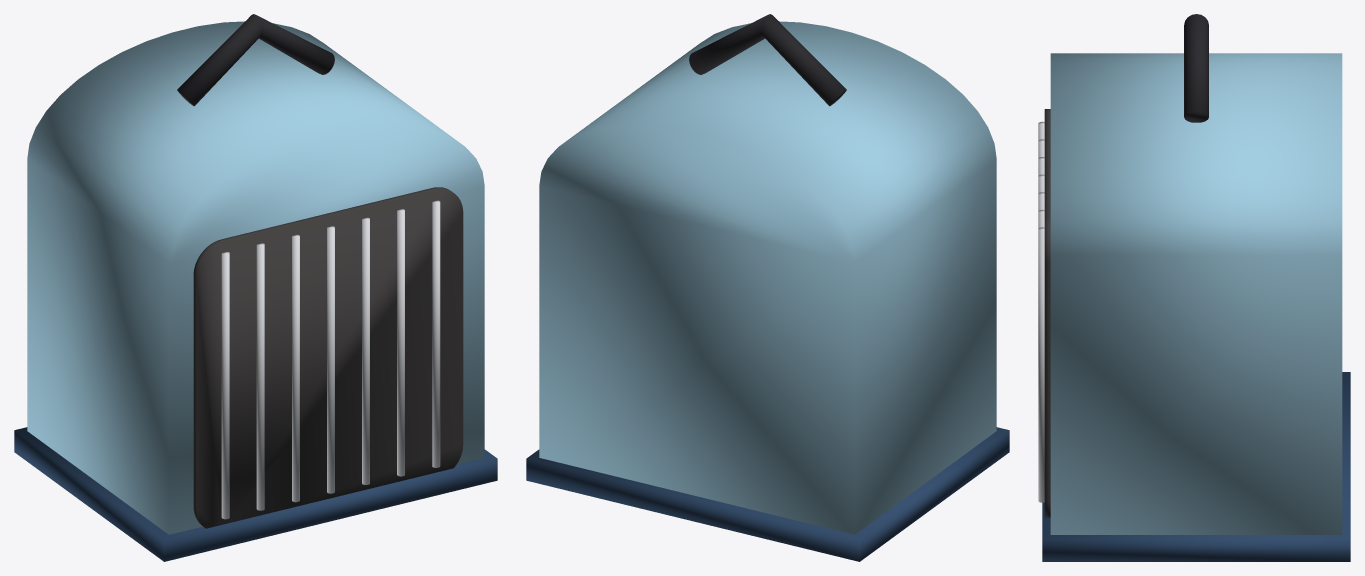
The model's file is pet-carrier.glb.
3 views of the same model, side by side, from view 1: azimuth 30°, elevation 25°; view 2: azimuth 150°, elevation 25°; view 3: azimuth 270°, elevation 25° (orthographic). The views are drawn at different scales.
Visible parts, largest first — view 1: part0, part1, part2, part15, part11; view 2: part0, part15, part11; view 3: part0, part15, part1, part2, part11.
Part boxes in pixels (x1=…): part0: x1=27, y1=21, x2=484, y2=534; part1: x1=193, y1=187, x2=463, y2=528; part2: x1=221, y1=200, x2=440, y2=519; part15: x1=14, y1=427, x2=497, y2=561; part11: x1=177, y1=14, x2=334, y2=106; part0: x1=539, y1=21, x2=996, y2=534; part15: x1=526, y1=427, x2=1009, y2=561; part11: x1=689, y1=14, x2=846, y2=106; part0: x1=1050, y1=53, x2=1342, y2=534; part15: x1=1042, y1=372, x2=1350, y2=561; part1: x1=1044, y1=109, x2=1050, y2=517; part2: x1=1038, y1=121, x2=1044, y2=502; part11: x1=1184, y1=14, x2=1208, y2=122.
Size of the model in its own units: 0.7724 by 1 by 0.6098.
